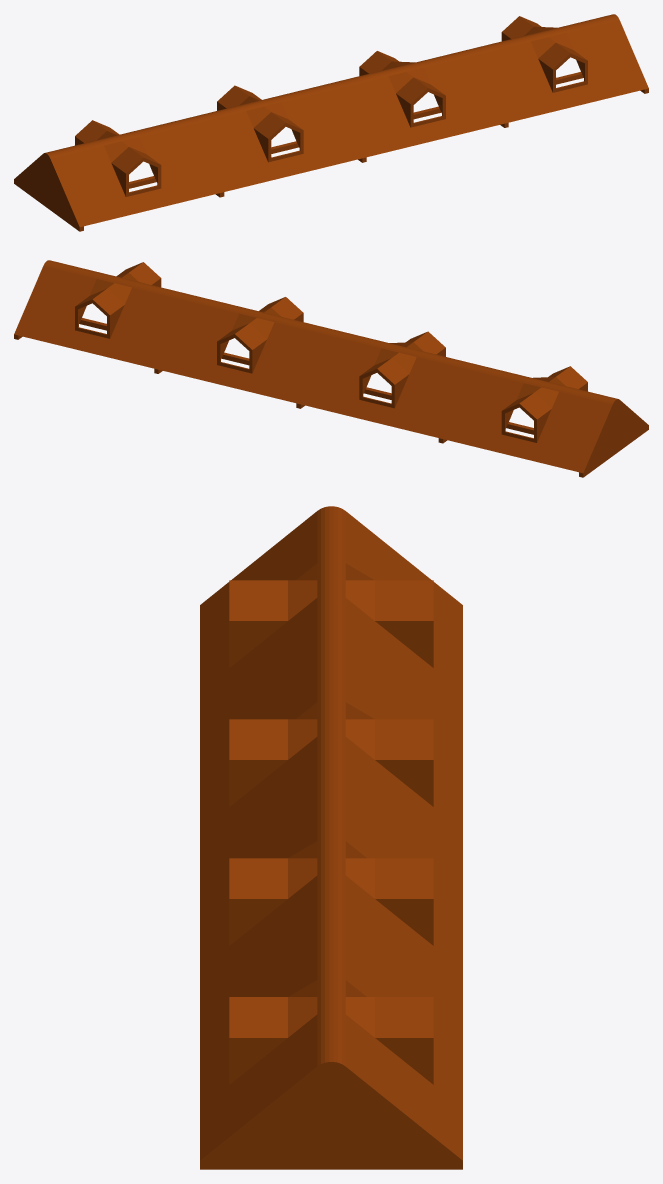
File: Roof.fbx
3 renders of one model, top to bottom at view 1: azimuth 30°, elevation 25°; view 2: azimuth 150°, elevation 25°; view 3: azimuth 270°, elevation 25°, orthographic. The views are drawn at different scales.
Parts seen in each view (by area): view 1: RoofFloor; view 2: RoofFloor; view 3: RoofFloor.
Boxes of the visible parts, <box> form: RoofFloor: <box>14,14,648,231</box>; RoofFloor: <box>14,260,648,477</box>; RoofFloor: <box>200,506,462,1169</box>.
Size of the model in its own units: 4000 by 362 by 800.
